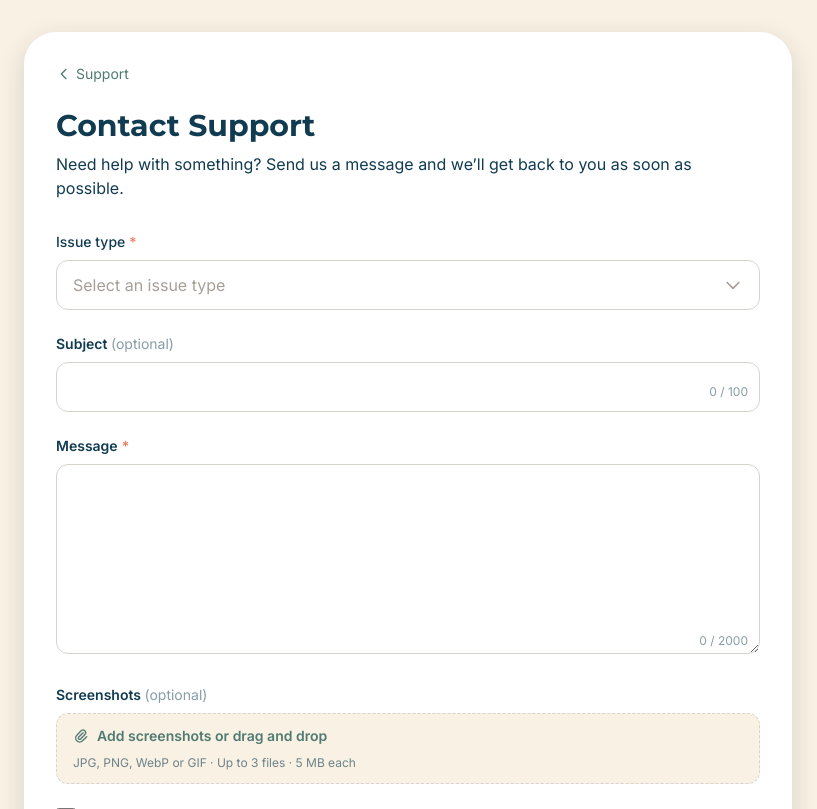
ContactSupport › submits trimmed values with followUp false by default and shows the exact success message
Click the dropdown labelled "Select an issue type" at {"x": 408, "y": 285}, box top-left (56, 260), bottom-right (760, 310)
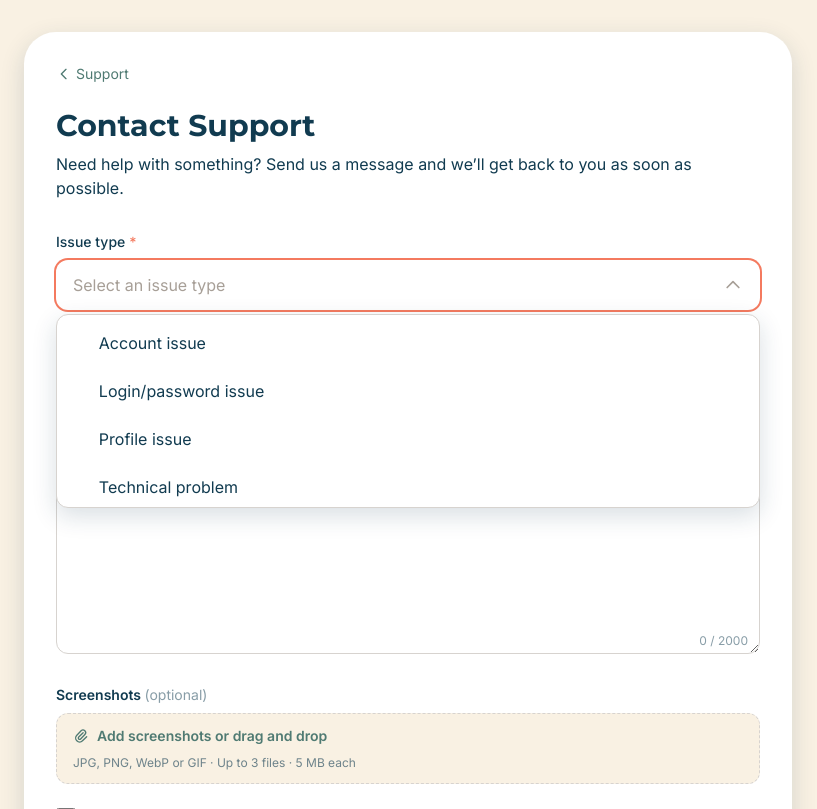
Click the option "Technical problem" at {"x": 156, "y": 487}, box top-left (73, 477), bottom-right (238, 497)
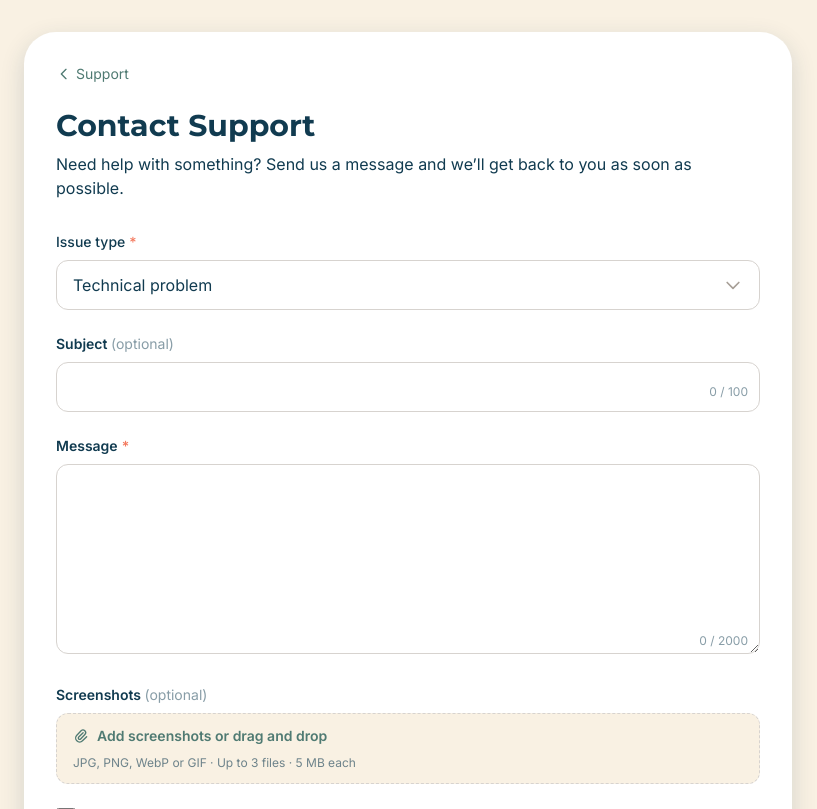
Type "  App crash  " into the field labelled "Subject (optional)" at {"x": 408, "y": 387}, box top-left (56, 362), bottom-right (760, 412)
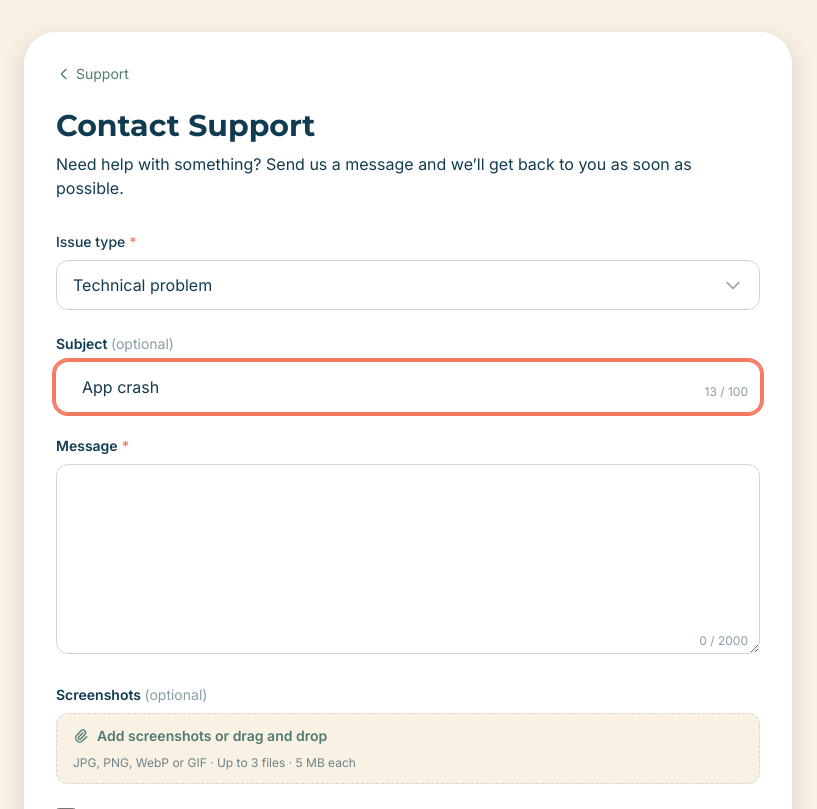
Type "  Something broke.  " into the text box labelled "Message*" at {"x": 408, "y": 559}, box top-left (56, 464), bottom-right (760, 654)
(page scrolled)
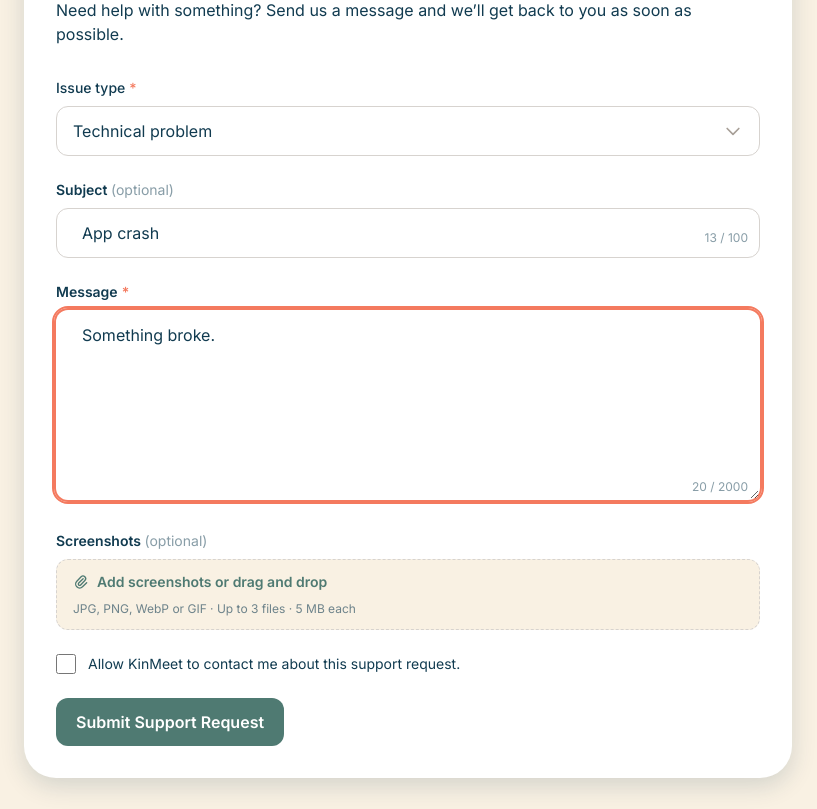
Click the button "Submit Support Request" at {"x": 170, "y": 722}, box top-left (56, 698), bottom-right (284, 746)
(page scrolled)
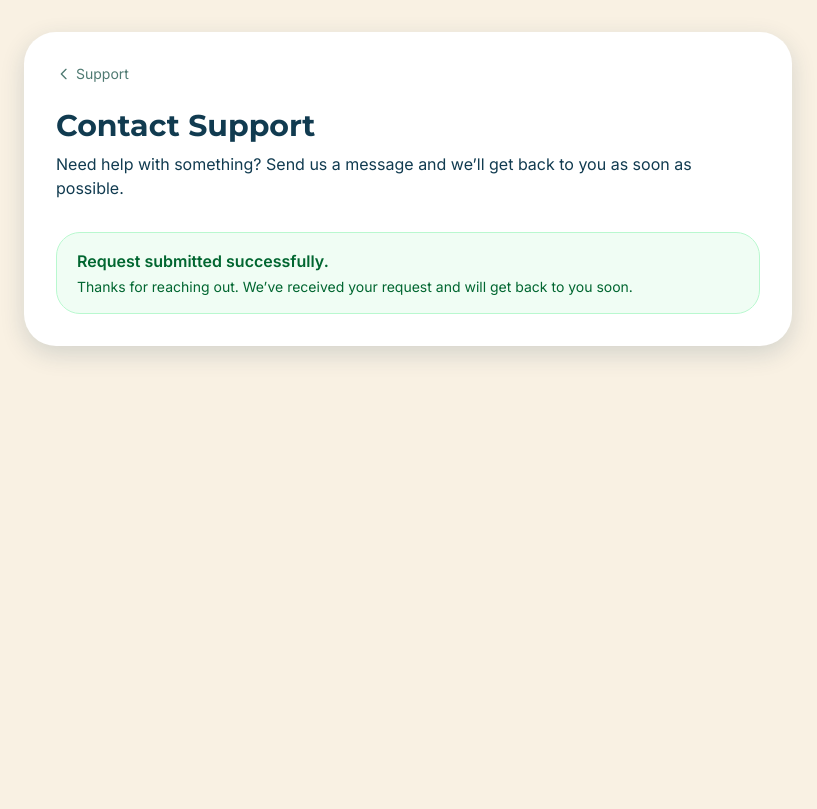
Now the message shows "Request submitted successfully.", box top-left (77, 251), bottom-right (329, 271)
Now the message shows "Thanks for reaching out. We’ve received your request and will get back to you soon.", box top-left (77, 278), bottom-right (633, 295)
